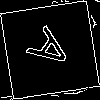A: (25, 25, 83, 80)
